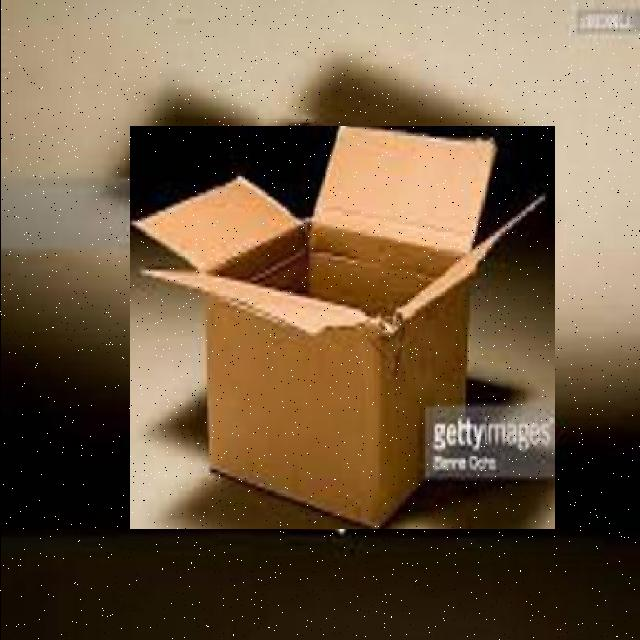defect: (129, 126, 554, 529)
